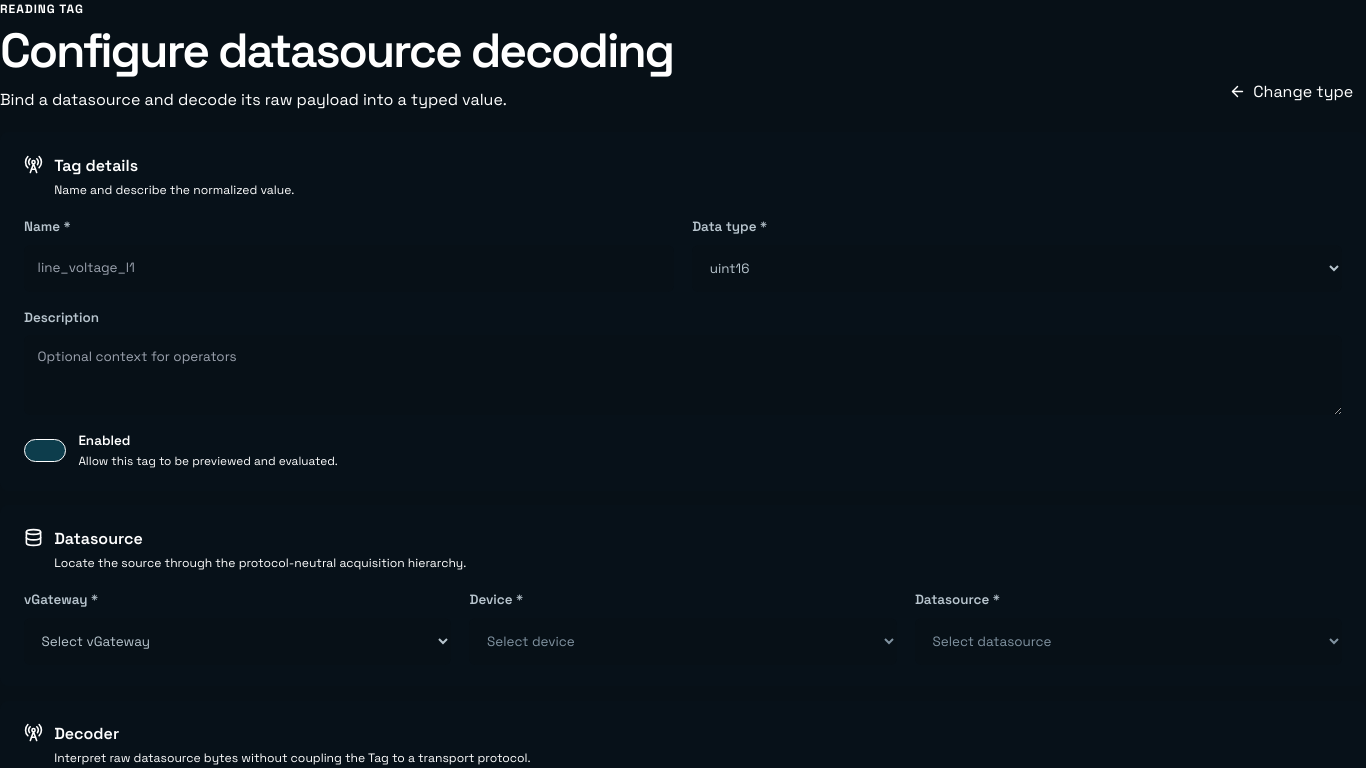
Test case: ReadingTagForm › clears stale preview state and blocks invalid decoder ranges
This screenshot has width=1366, height=768.
Select "Factory gateway · Modbus Tcp" in the dropdown labelled "vGateway" at (238, 641), box top-left (24, 618), bottom-right (451, 665)
Select "Main meter · Modbus Device" in the dropdown labelled "Device" at (683, 641), box top-left (470, 618), bottom-right (897, 665)
Select "Holding registers · Modbus Read" in the dropdown labelled "Datasource" at (1128, 641), box top-left (915, 618), bottom-right (1342, 665)
(page scrolled)
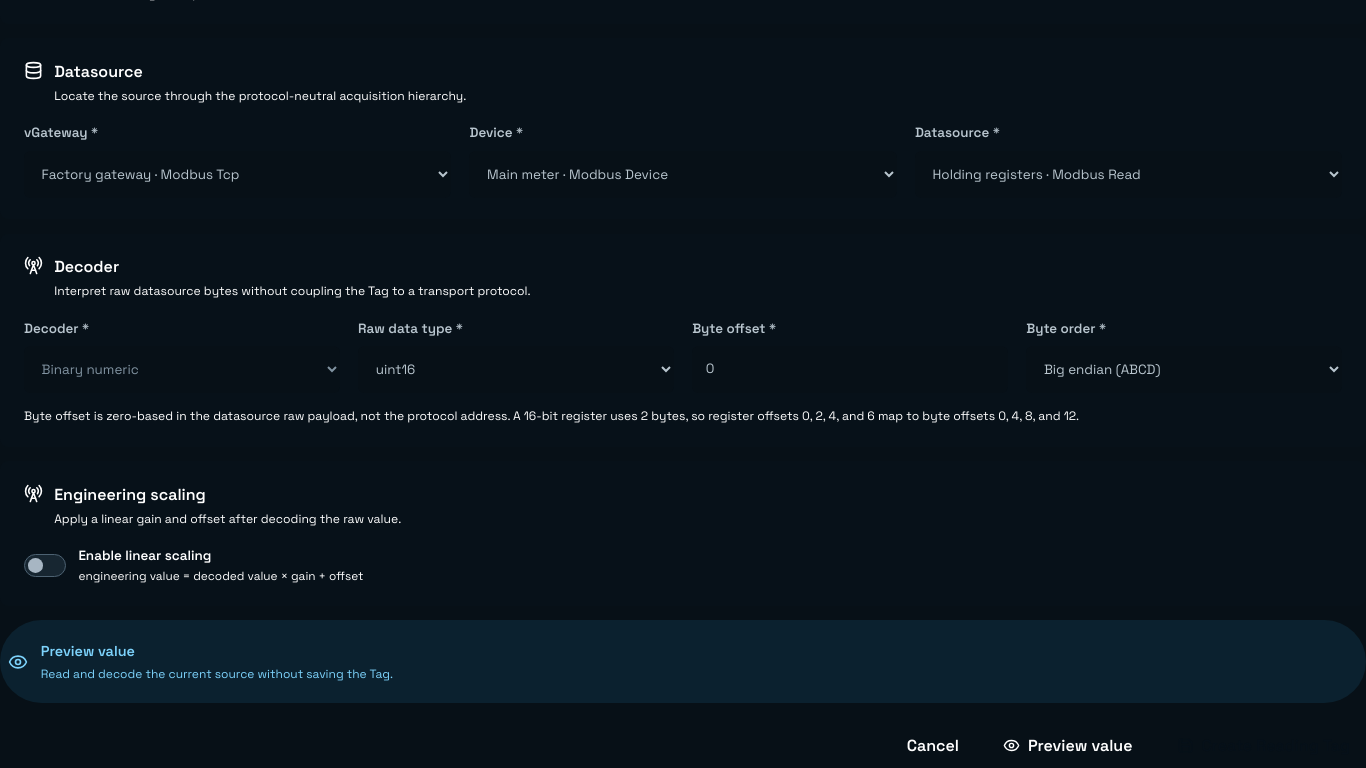
Click the button "Preview value" at (1068, 746), box top-left (987, 724), bottom-right (1148, 767)
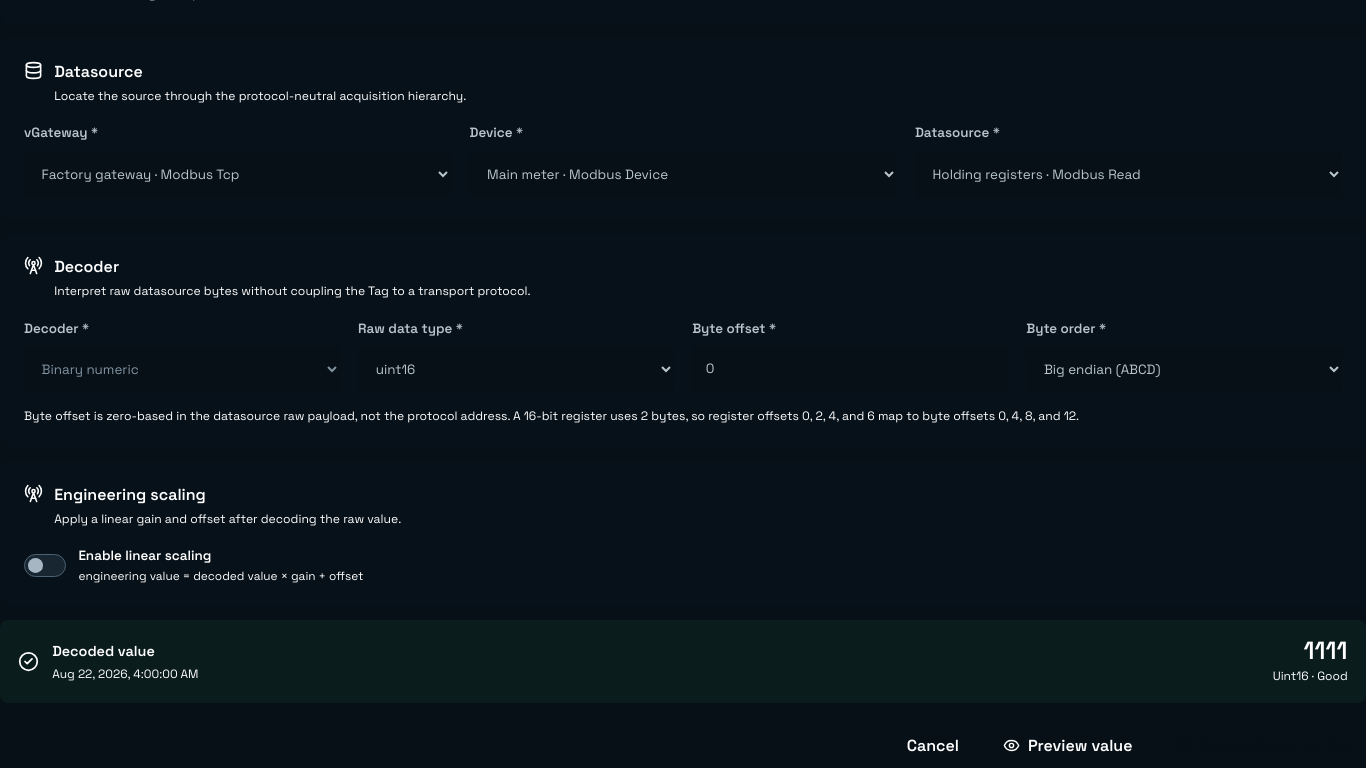
Result: the text "1111" is shown at top-left (1304, 635), bottom-right (1348, 666)
Replace the text in the number field labelled "Byte offset *" with "-1" at (850, 370), box top-left (692, 346), bottom-right (1008, 393)
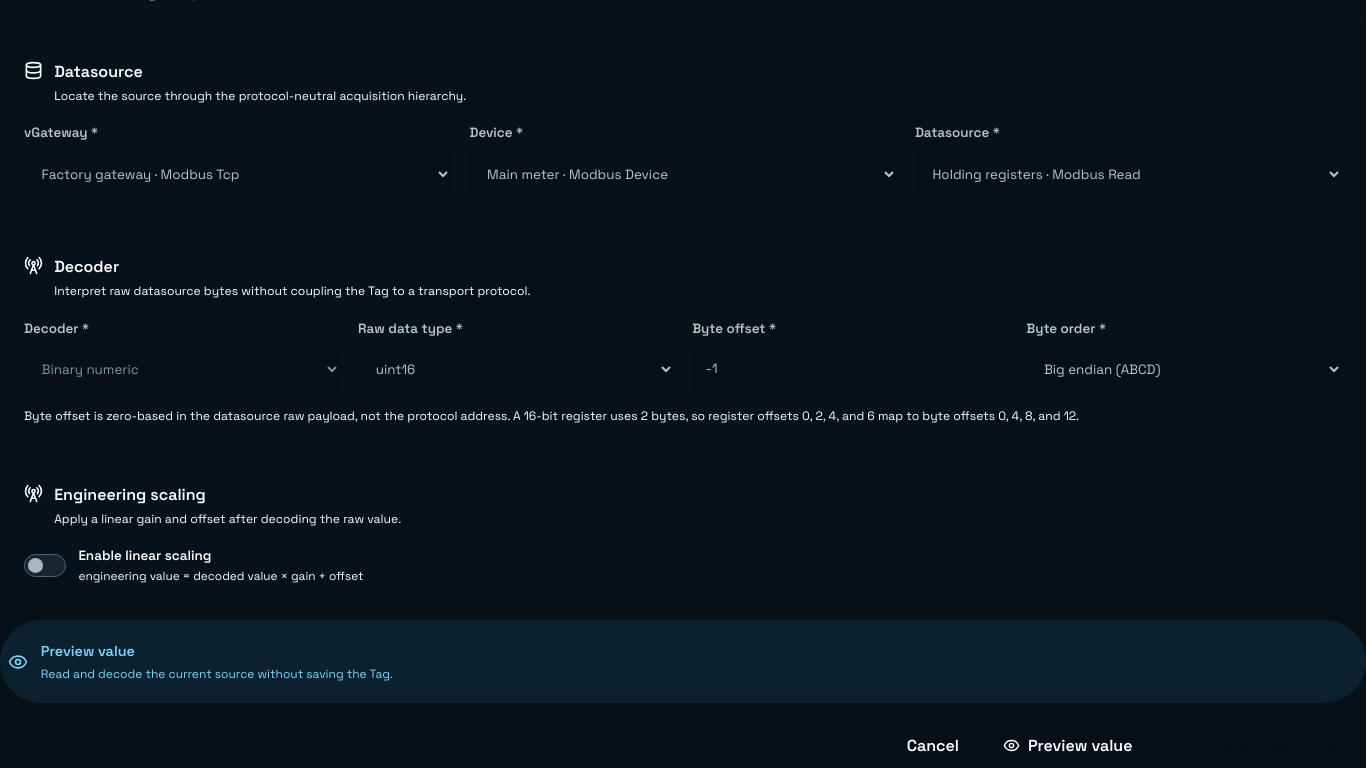
Result: the element named "Tag preview" shows "Read and decode" at top-left (41, 666), bottom-right (393, 682)
Click the button "Preview value" at (1068, 746), box top-left (987, 724), bottom-right (1148, 767)
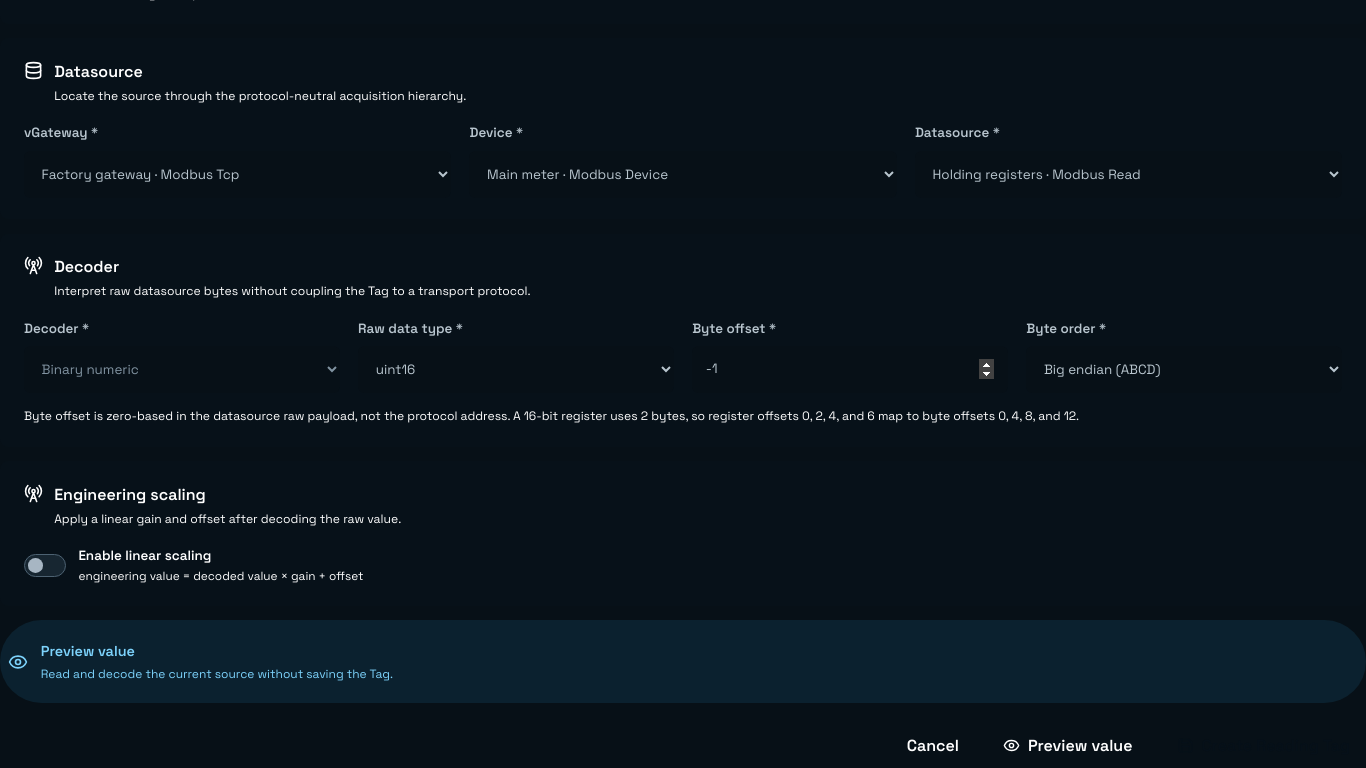
Replace the text in the number field labelled "Byte offset *" with "0" at (850, 370), box top-left (692, 346), bottom-right (1008, 393)
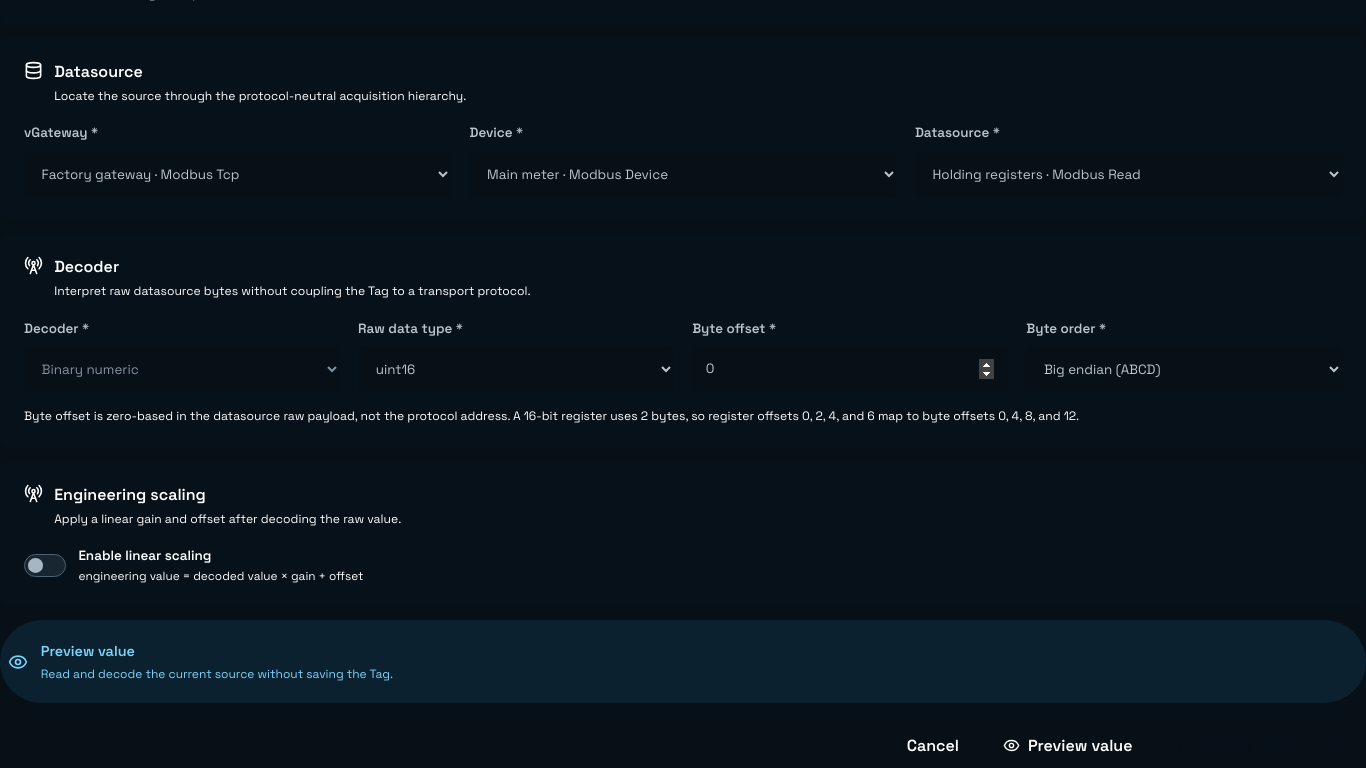
Click the button "Preview value" at (1068, 746), box top-left (987, 724), bottom-right (1148, 767)
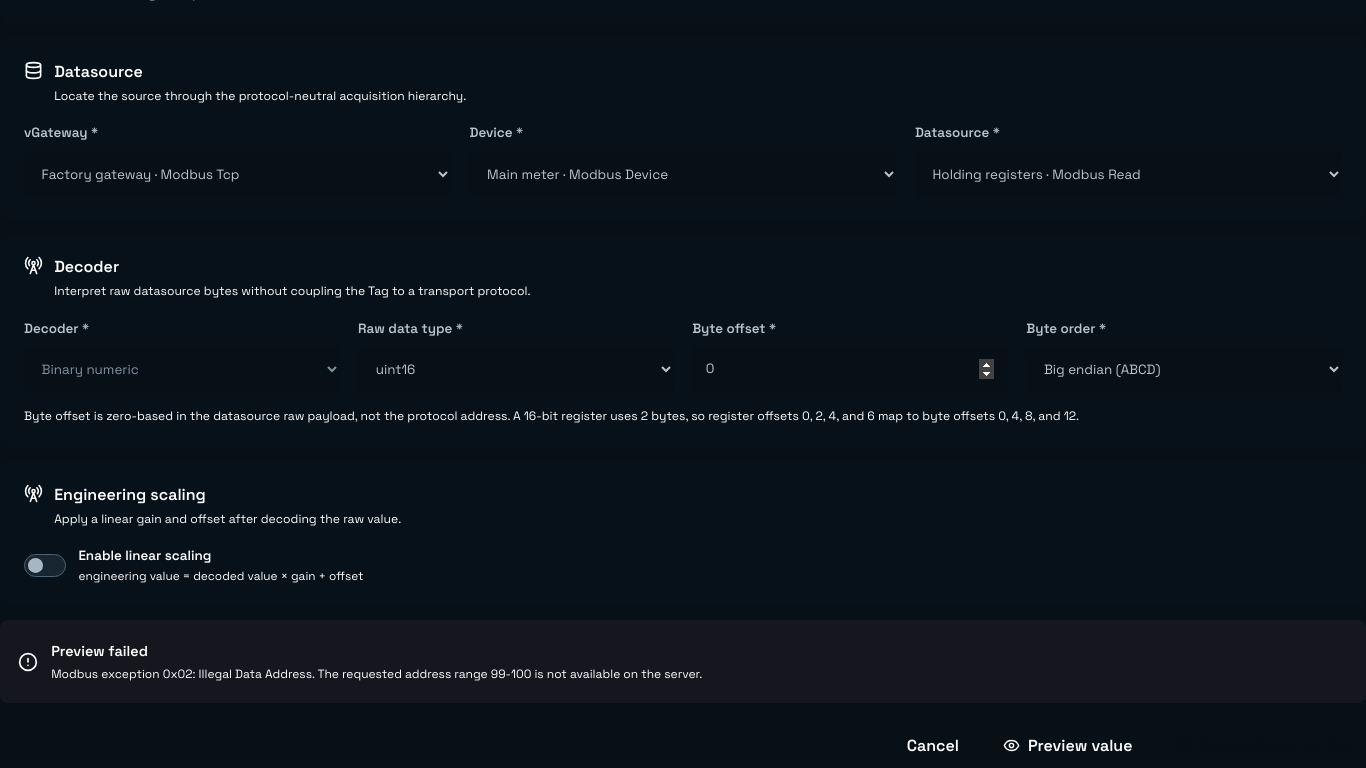
Result: the message shows "Modbus exception 0x02: Illegal Data Address" at top-left (51, 666), bottom-right (702, 682)
Result: the message shows "address range 99-100" at top-left (51, 666), bottom-right (702, 682)
